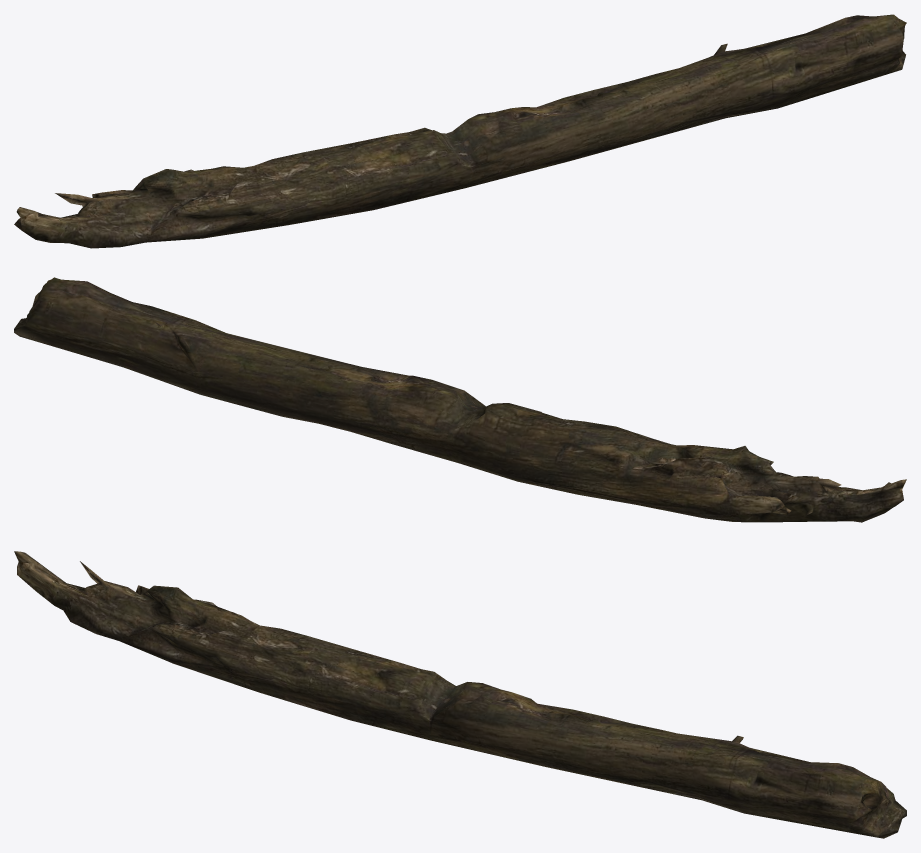
The model's file is dead_tree_trunk.glb.
3 renders of one model, top to bottom at view 1: azimuth 30°, elevation 25°; view 2: azimuth 150°, elevation 25°; view 3: azimuth 330°, elevation 25°, orthographic.
Visible parts, largest first — view 1: dead_tree_trunk; view 2: dead_tree_trunk; view 3: dead_tree_trunk.
Part boxes in pixels (bbox=[...]): dead_tree_trunk: bbox=[14, 14, 906, 248]; dead_tree_trunk: bbox=[14, 277, 906, 522]; dead_tree_trunk: bbox=[14, 551, 906, 838].
Bounding box in the file's own units: 3.04 × 0.287 × 0.2774.
Materials: 1 (1 with a texture image).
